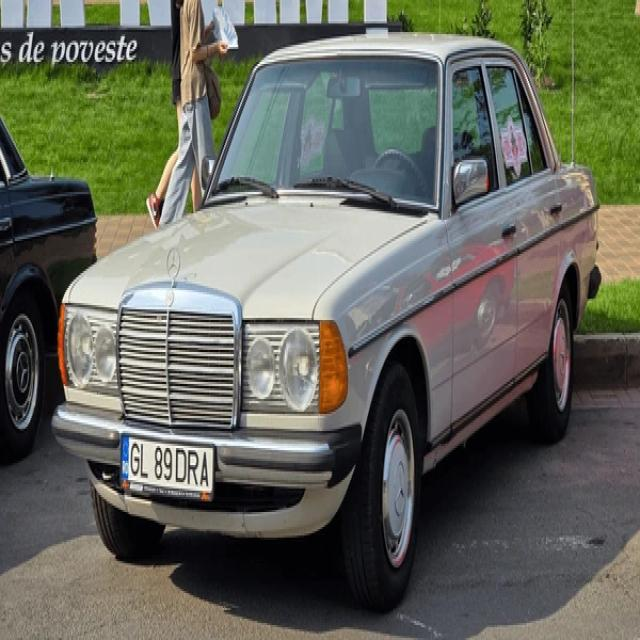mercedes: (165, 247, 181, 281)
